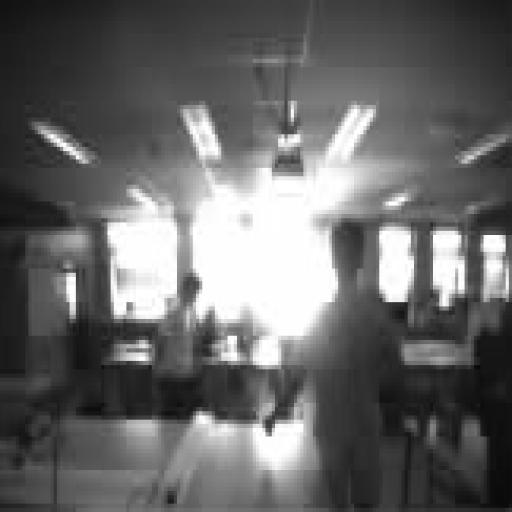human: (298, 219, 401, 507), (155, 273, 202, 419)
